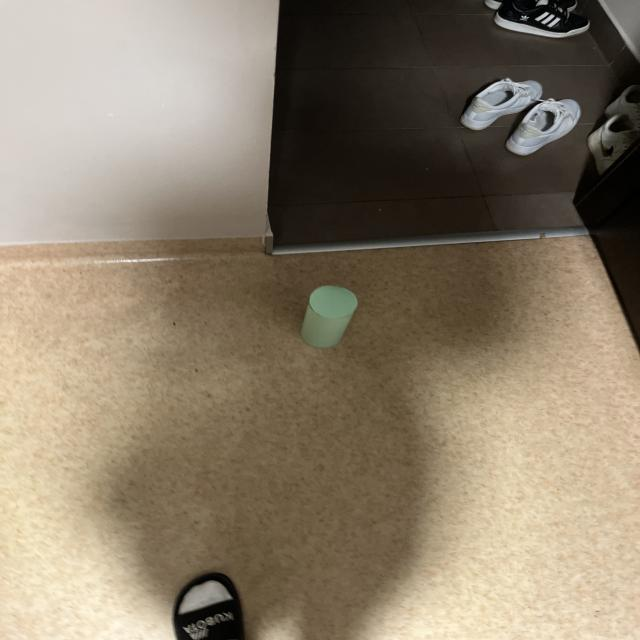meta: (301, 286, 357, 347)
